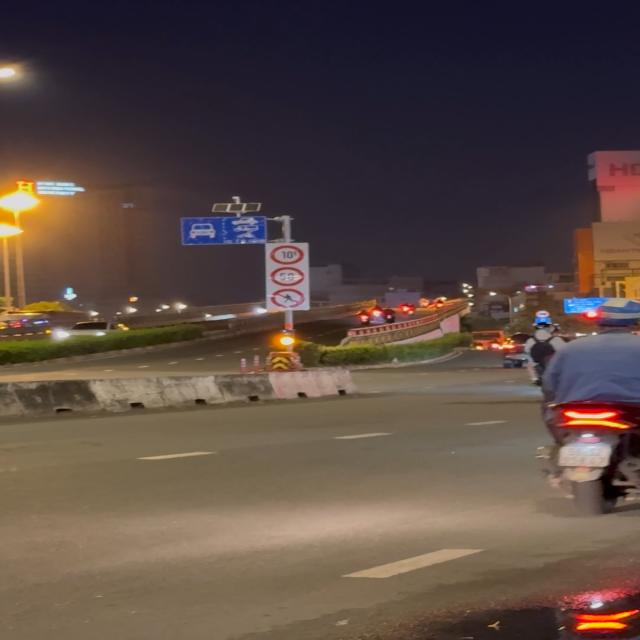Bien bao cam nguoi di bo: (268, 286, 308, 310)
Bien bao toc do toi da cho phep: (268, 266, 306, 287)
